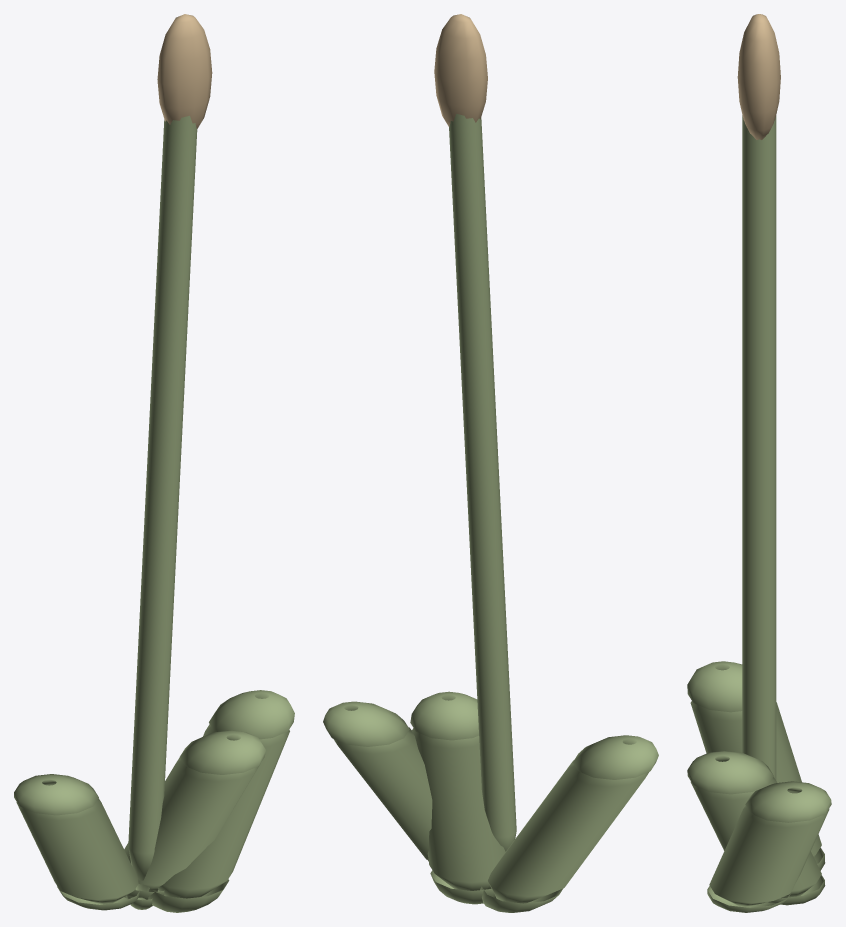
Rendered from reed.glb.
3 renders of one model, left to right at view 1: azimuth 30°, elevation 25°; view 2: azimuth 150°, elevation 25°; view 3: azimuth 270°, elevation 25°, orthographic. The views are drawn at different scales.
Visible parts, largest first — view 1: stem, leaf1, leaf2, leaf0, head; view 2: stem, leaf1, leaf2, leaf0, head; view 3: stem, leaf0, leaf2, leaf1, head.
Part boxes in pixels (x1,y1,x2,y2): stem: (126,115,197,909); leaf1: (14,774,140,910); leaf2: (124,730,265,899); leaf0: (148,690,294,912); head: (157,14,212,128); stem: (449,114,516,851); leaf1: (480,735,658,912); leaf2: (410,691,505,904); leaf0: (323,701,432,860); head: (434,14,487,126); stem: (742,115,776,780); leaf0: (707,781,831,912); leaf2: (687,750,825,905); leaf1: (687,661,825,870); head: (737,14,780,139).
Size of the model in its own units: 0.2287 by 0.6417 by 0.0934.
